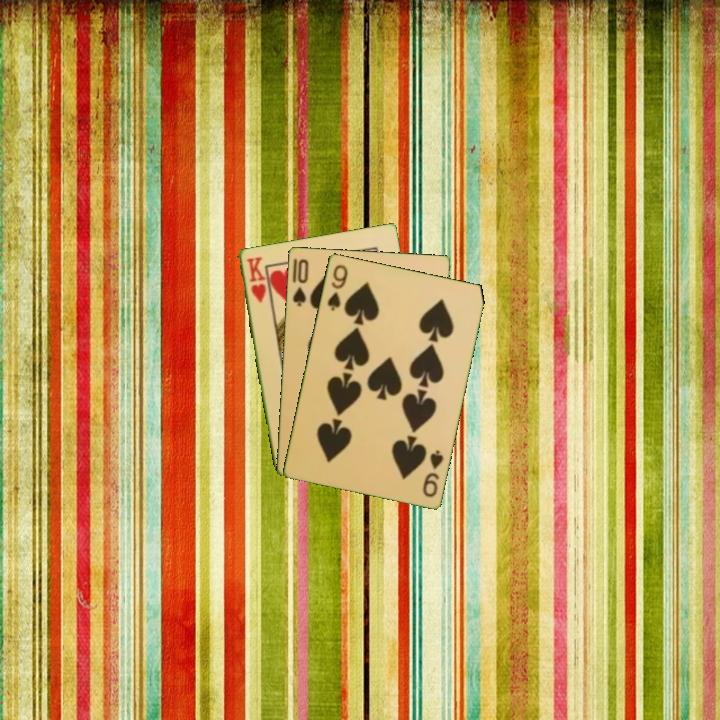10s: (289, 255, 311, 309)
9s: (419, 446, 446, 500), (323, 261, 350, 313)
Kh: (243, 253, 269, 305)
